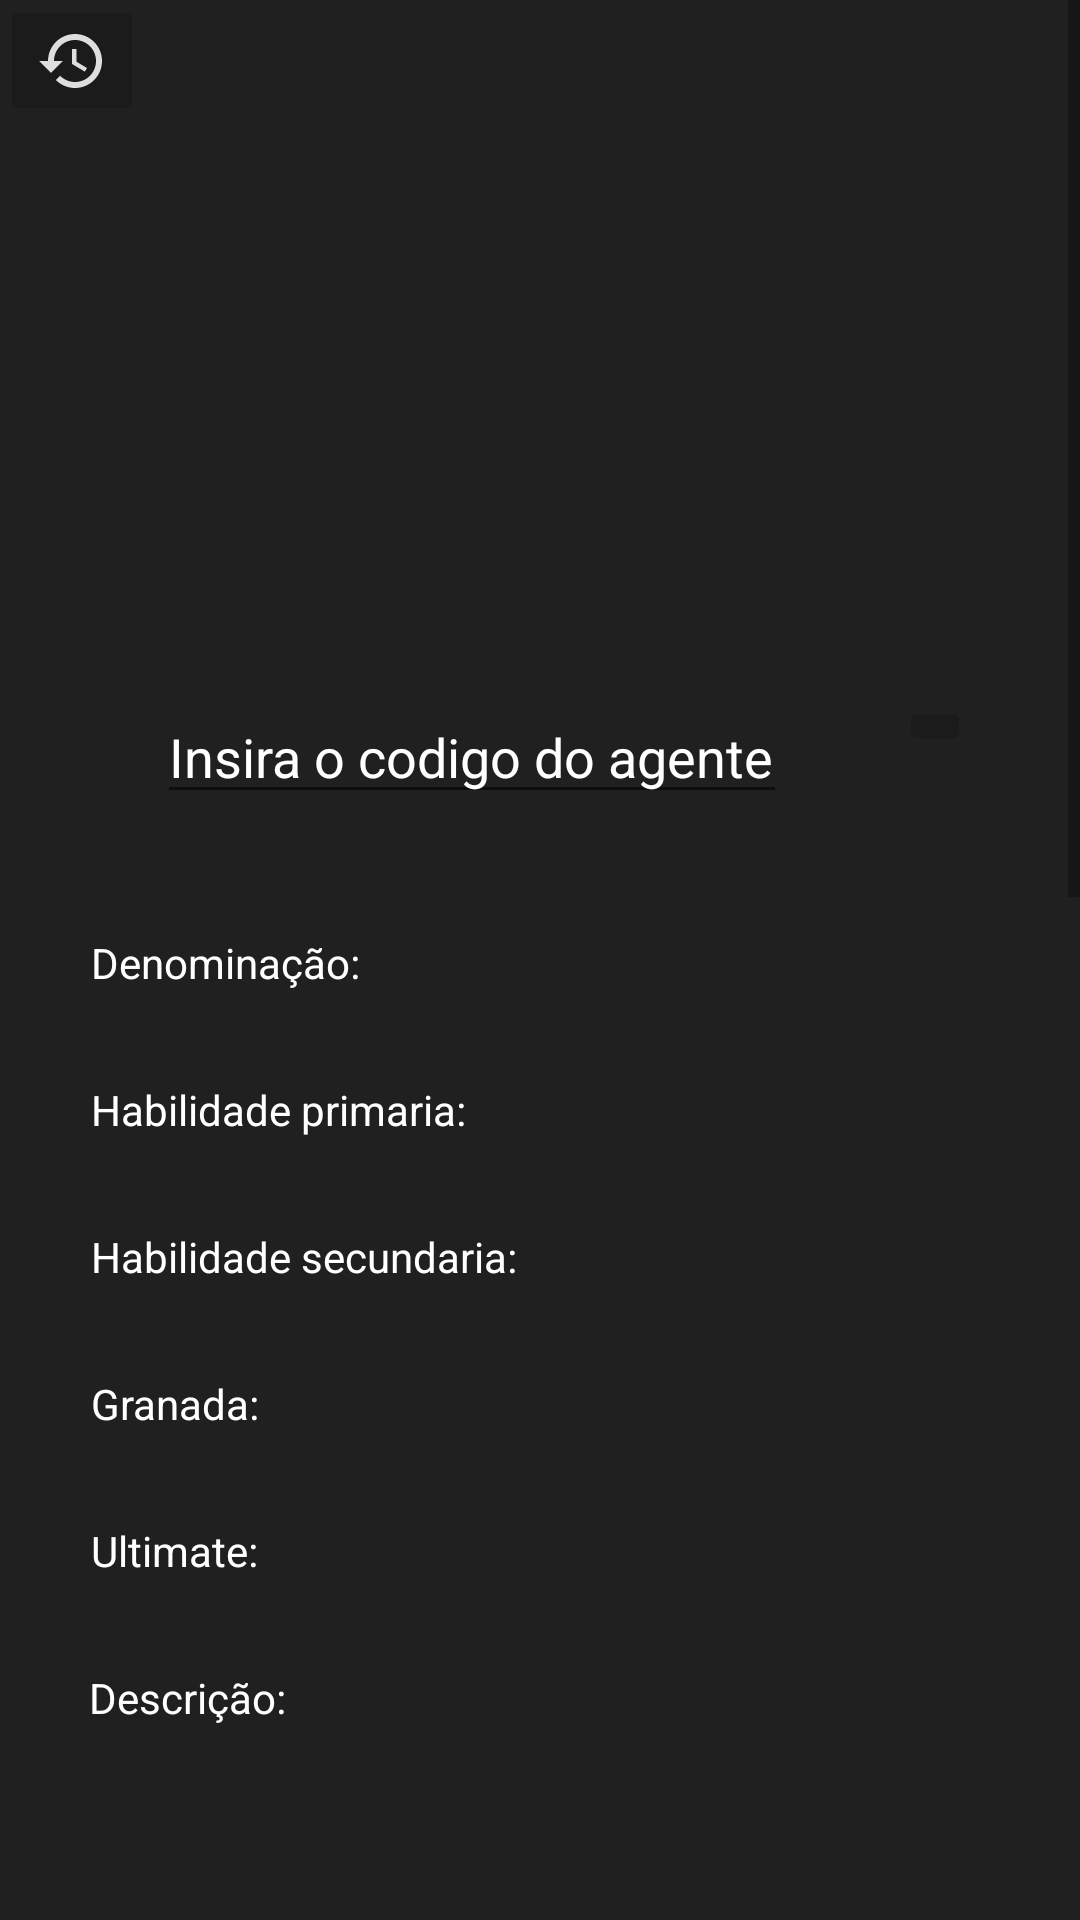

Icons on this 1080px x 1920px Android screen, each with its box as Rect(x1, y1, x2, y2):
history: Rect(39, 34, 102, 88)
